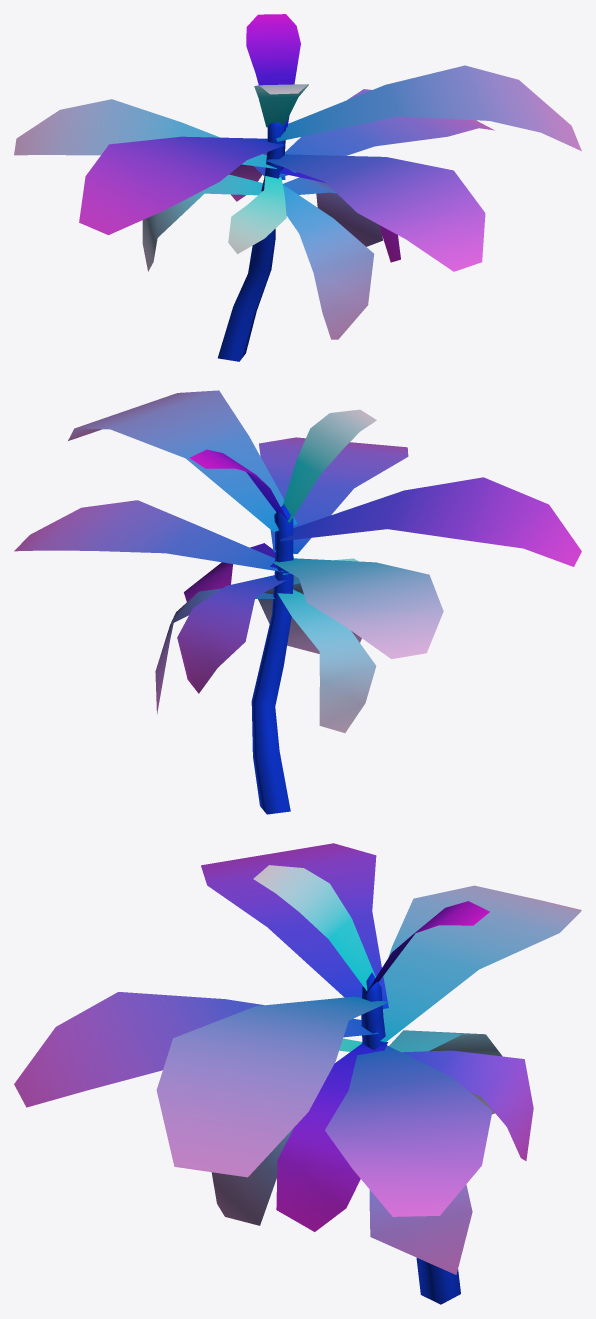
Rendered from Ground_Cover_sfcnq_Mid_sfcnq_VarB_LOD1.fbx.
The picture shows the model from 3 angles, top to bottom: view 1: azimuth 30°, elevation 25°; view 2: azimuth 150°, elevation 25°; view 3: azimuth 270°, elevation 25°; orthographic projection. The views are drawn at different scales.
Parts seen in each view (by area): view 1: _35fd_VarB_LOD2; view 2: _35fd_VarB_LOD2; view 3: _35fd_VarB_LOD2.
Boxes of the visible parts, x1=… form: _35fd_VarB_LOD2: x1=14, y1=14, x2=581, y2=361; _35fd_VarB_LOD2: x1=14, y1=390, x2=581, y2=814; _35fd_VarB_LOD2: x1=14, y1=843, x2=581, y2=1304.
Size of the model in its own units: 40.44 by 25.59 by 31.89.
